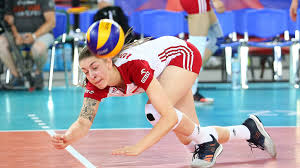ball: (86, 18, 124, 59)
